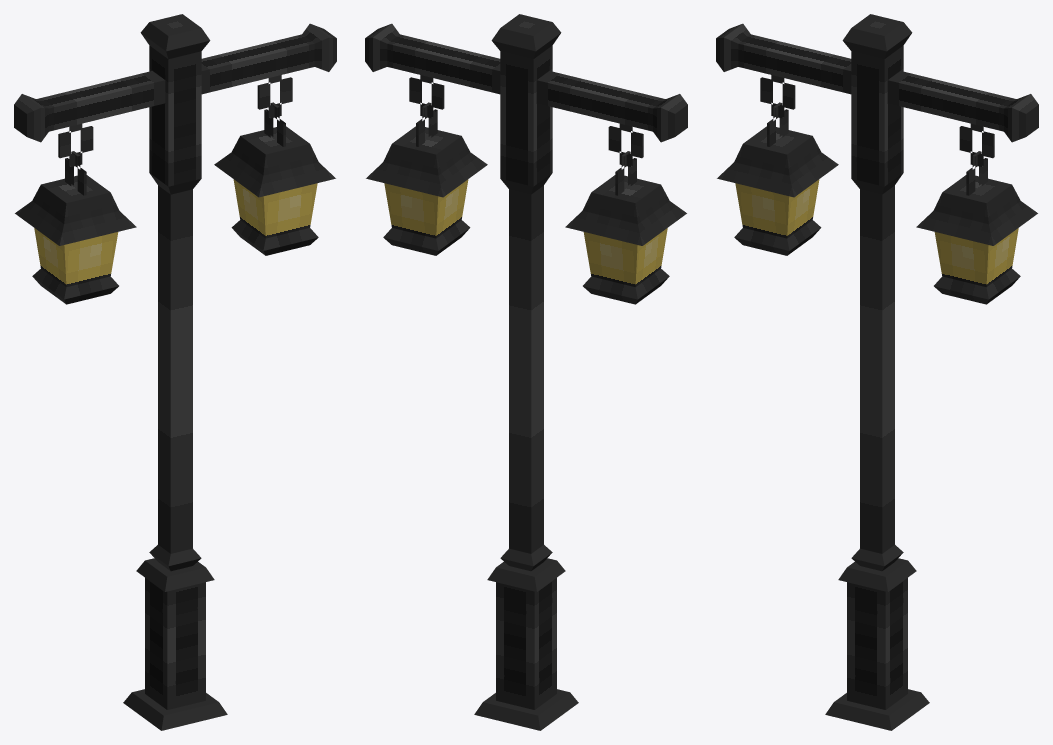
Rendered from znaki.fbx.
The picture shows the model from 3 angles, left to right: view 1: azimuth 30°, elevation 25°; view 2: azimuth 150°, elevation 25°; view 3: azimuth 330°, elevation 25°; orthographic projection.
Parts seen in each view (by area): view 1: mesh; view 2: mesh; view 3: mesh.
Boxes of the visible parts, x1=… form: mesh: x1=14, y1=14, x2=336, y2=730; mesh: x1=365, y1=14, x2=687, y2=730; mesh: x1=716, y1=14, x2=1038, y2=730.
Bounding box in the file's own units: 175 × 369 × 43.75.
1 material, 1 textured.
